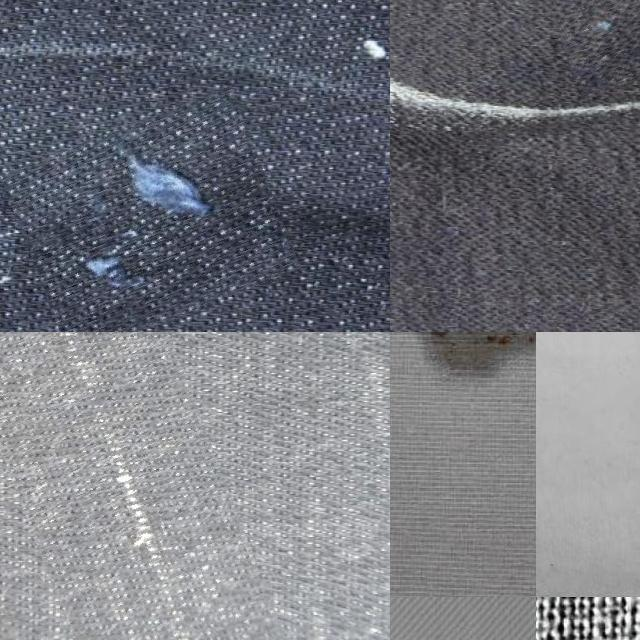Thread_other: (390, 332, 536, 429)
stains: (0, 332, 252, 640), (13, 104, 288, 332), (552, 0, 640, 87)
